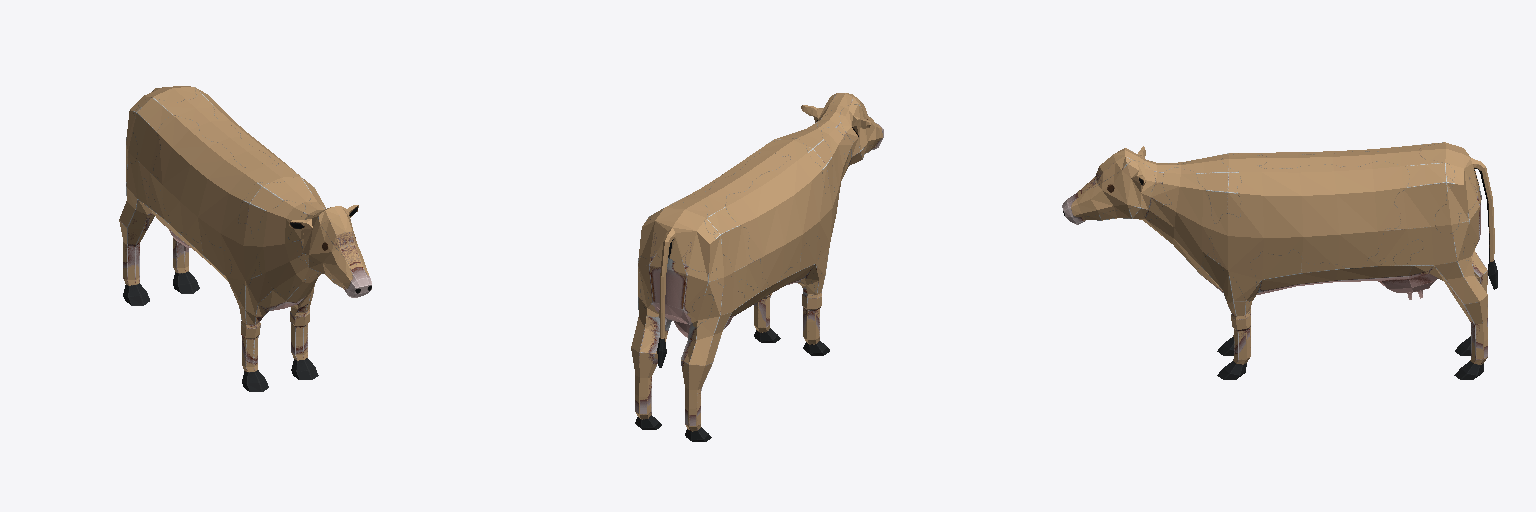
The picture shows the model from 3 angles: view 1: azimuth 30°, elevation 25°; view 2: azimuth 150°, elevation 25°; view 3: azimuth 270°, elevation 25°; orthographic projection.
Parts seen in each view (by area): view 1: Cow_mesh; view 2: Cow_mesh; view 3: Cow_mesh.
Part boxes in pixels (x1,y1,x2,y2): Cow_mesh: (119,86,371,391); Cow_mesh: (631,93,883,441); Cow_mesh: (1062,142,1497,379).
Size of the model in its own units: 3.36 by 7.42 by 13.65.
1 materials, 1 textured.